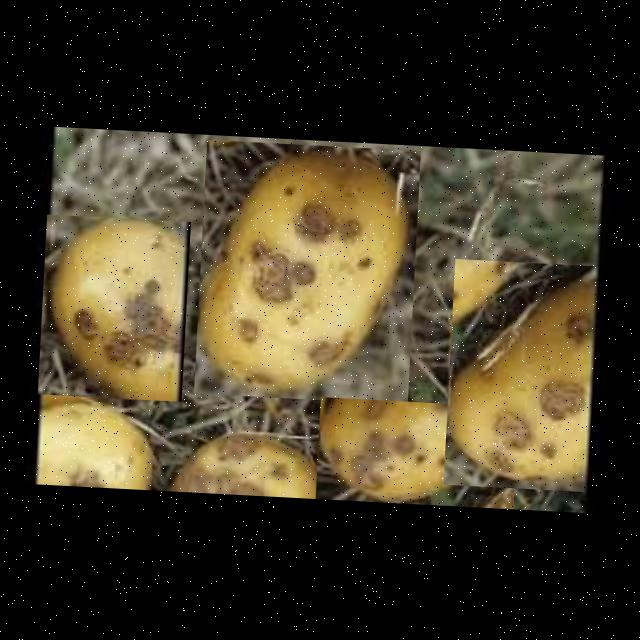Diseased-fungal potato: (194, 140, 421, 405), (444, 259, 604, 492), (38, 215, 191, 402), (316, 398, 518, 510), (166, 426, 327, 499)
